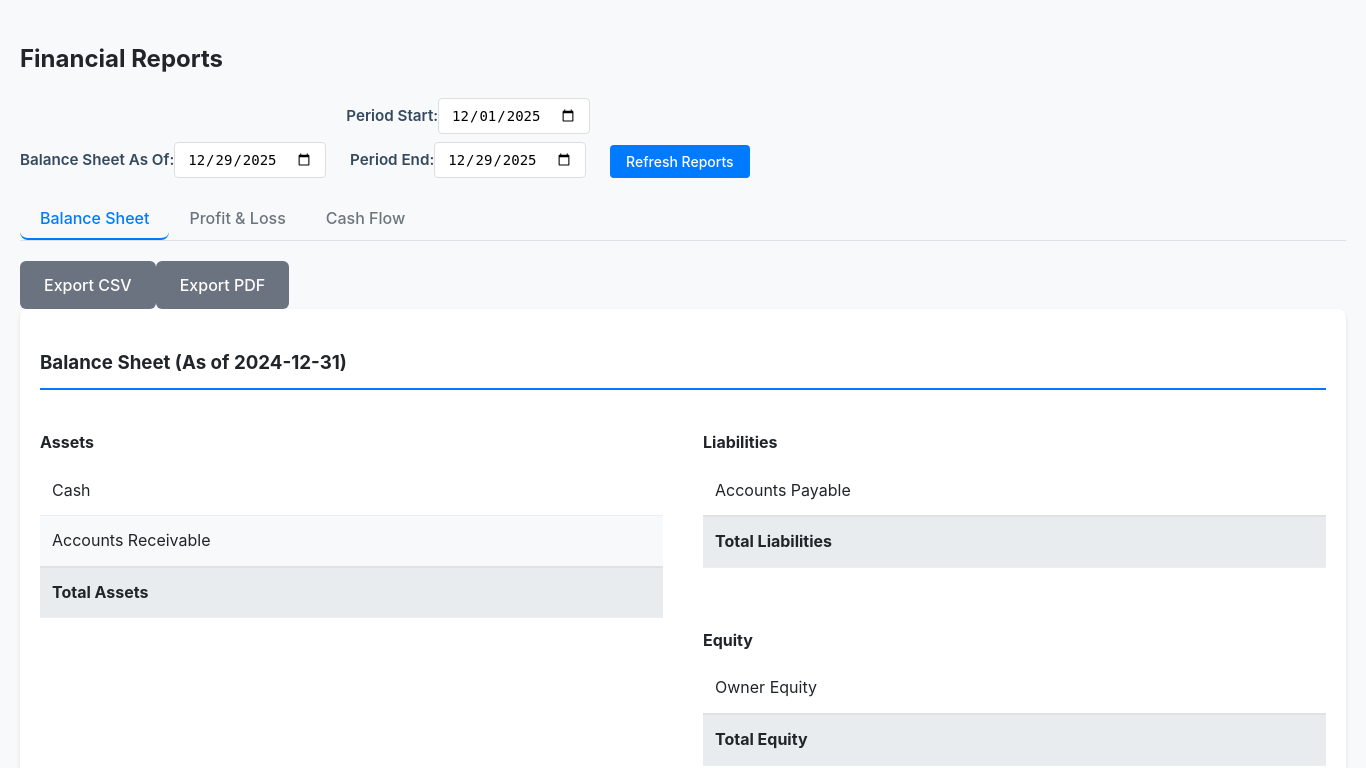
Test: Reports › Tab Navigation › switches to cash flow tab
Expected: the heading "Balance Sheet (As of 2024-12-31)" is shown, [40,348,1326,390]
Click the button "Cash Flow" at (366, 219), box [306,198,425,240]
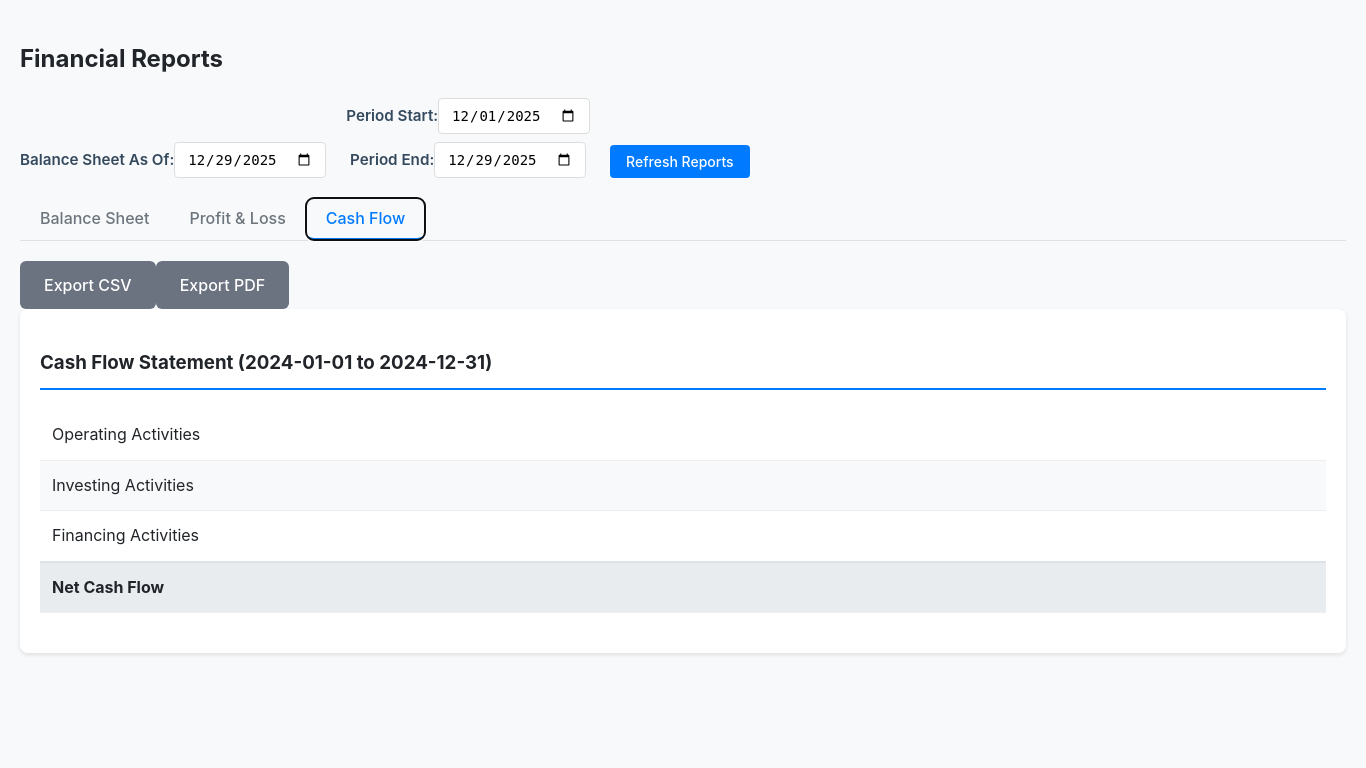
Expected: the heading "Cash Flow Statement (2024-01-01 to 2024-12-31)" is shown, [40,348,1326,390]
Expected: the text "Operating Activities" is shown, [40,410,1169,460]
